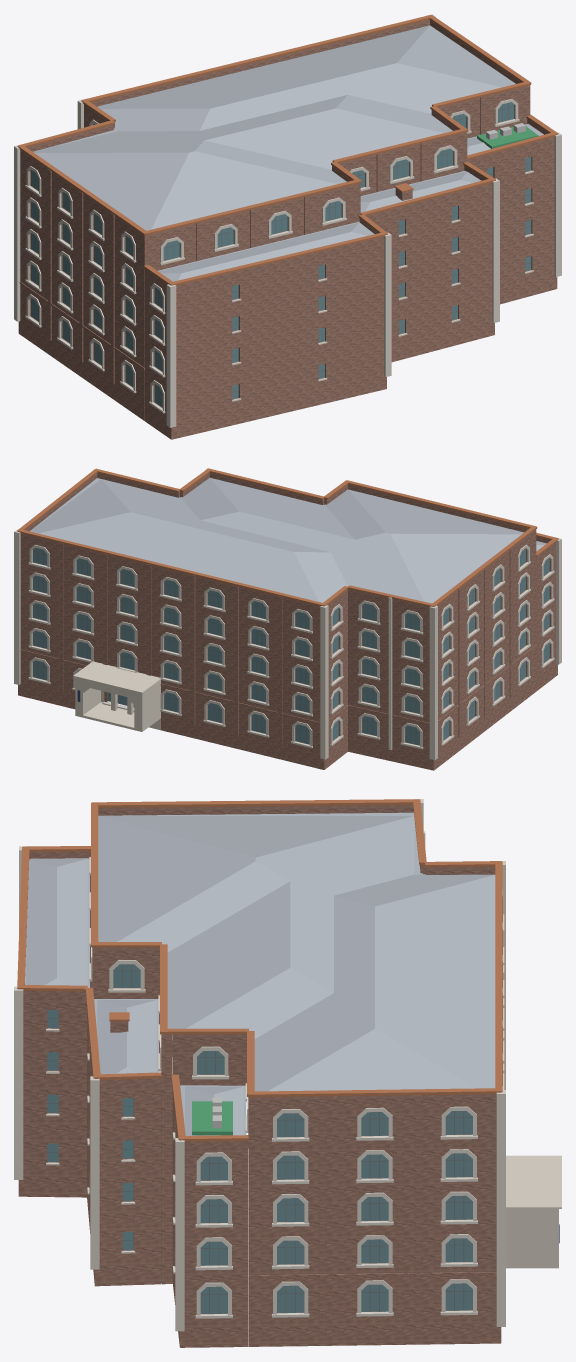
The picture shows the model from 3 angles, top to bottom: view 1: azimuth 30°, elevation 25°; view 2: azimuth 150°, elevation 25°; view 3: azimuth 270°, elevation 25°; orthographic projection. The views are drawn at different scales.
Visible parts, largest first — view 1: library__brick, library__roof-metal, library__trim, library__coping, library__glass, library__frame, library__deck-green; view 2: library__brick, library__roof-metal, library__trim, library__glass, library__coping, library__granite, library__frame; view 3: library__roof-metal, library__brick, library__trim, library__glass, library__coping, library__granite, library__frame, library__deck-green.
Part boxes in pixels (left/top/right/bottom): library__brick: left=18, top=19, right=557, bottom=439; library__roof-metal: left=33, top=25, right=543, bottom=281; library__trim: left=14, top=14, right=561, bottom=427; library__coping: left=17, top=15, right=558, bottom=285; library__glass: left=31, top=102, right=531, bottom=407; library__frame: left=30, top=103, right=531, bottom=407; library__deck-green: left=477, top=126, right=538, bottom=148; library__brick: left=18, top=473, right=557, bottom=770; library__roof-metal: left=30, top=477, right=546, bottom=603; library__trim: left=14, top=529, right=561, bottom=760; library__glass: left=33, top=547, right=549, bottom=745; library__coping: left=17, top=468, right=558, bottom=606; library__granite: left=73, top=661, right=160, bottom=731; library__frame: left=33, top=548, right=549, bottom=744; library__roof-metal: left=25, top=812, right=495, bottom=1135; library__brick: left=18, top=805, right=502, bottom=1347; library__trim: left=14, top=799, right=505, bottom=1331; library__glass: left=47, top=964, right=472, bottom=1313; library__coping: left=17, top=799, right=502, bottom=1141; library__granite: left=506, top=1155, right=561, bottom=1268; library__frame: left=47, top=964, right=472, bottom=1313; library__deck-green: left=192, top=1101, right=232, bottom=1135.
Size of the model in its own units: 58.94 by 24.55 by 45.62.
11 materials, 1 textured.
